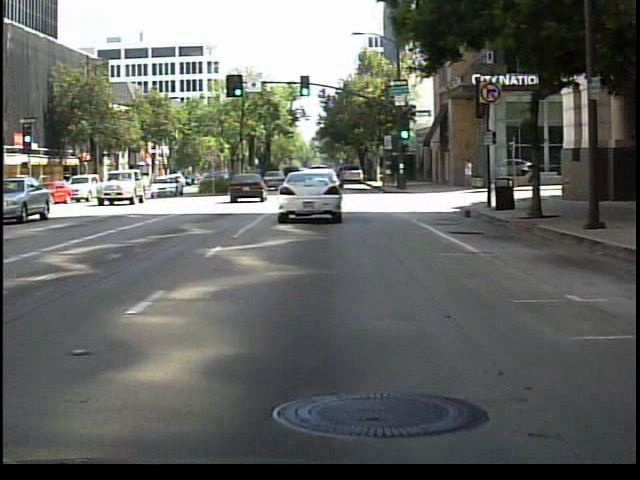person: (459, 155, 476, 194)
